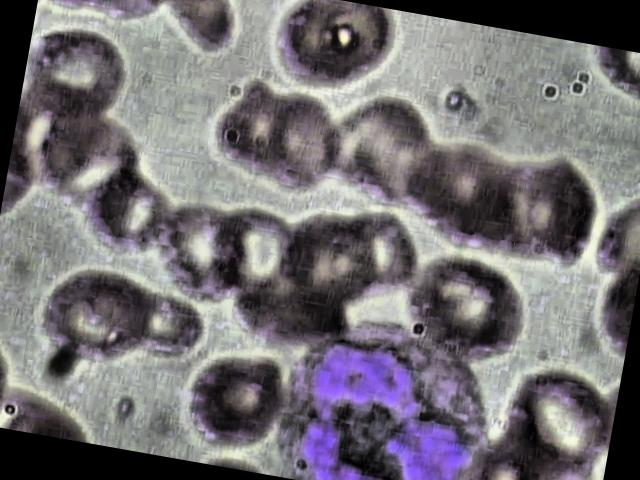WBC: (270, 305, 501, 480)
